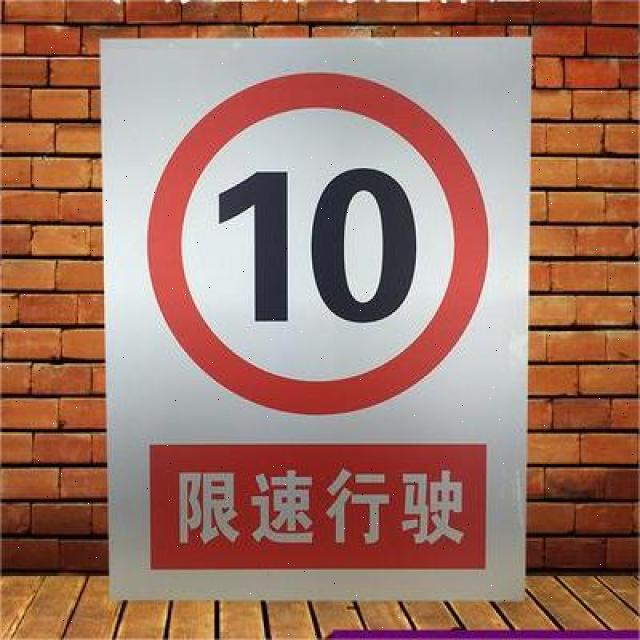speed limit 10: (145, 67, 492, 417)
